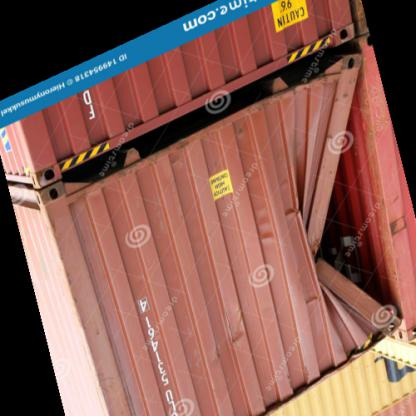Damage: (302, 83, 401, 335)
